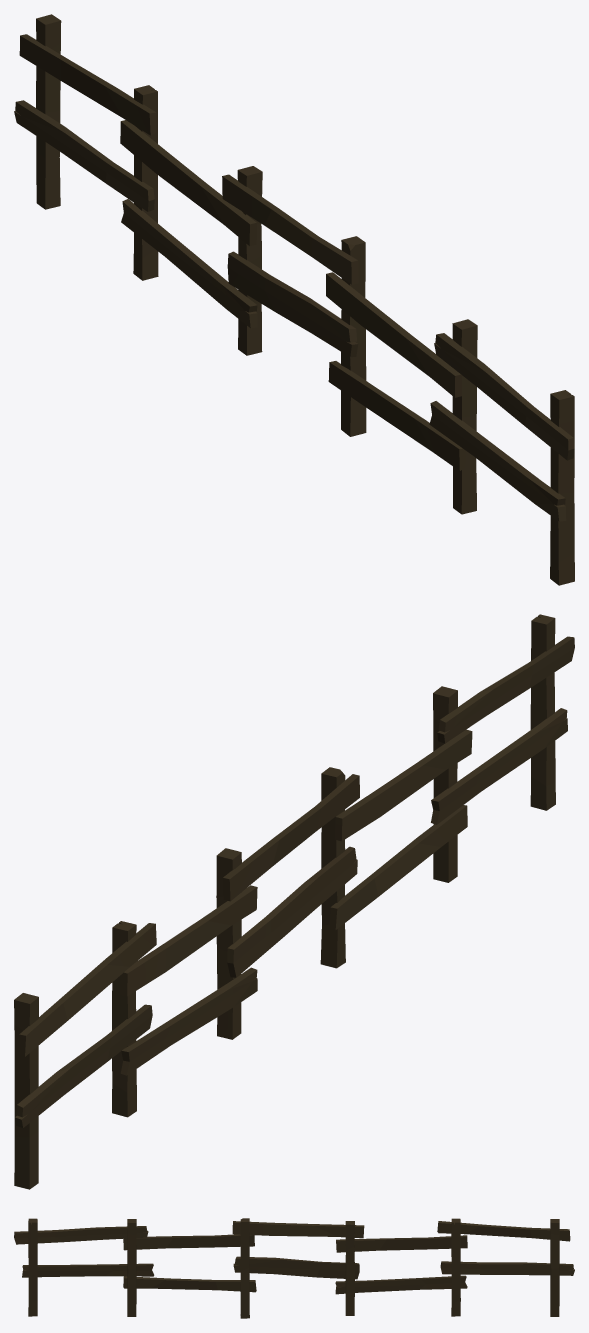
The model's file is fence.fbx.
The picture shows the model from 3 angles, top to bottom: view 1: azimuth 30°, elevation 25°; view 2: azimuth 150°, elevation 25°; view 3: azimuth 270°, elevation 25°; orthographic projection. The views are drawn at different scales.
Visible parts, largest first — view 1: Cube.010; view 2: Cube.010; view 3: Cube.010.
Part boxes in pixels (box(x1,y1,x2,y2)): Cube.010: box(14, 14, 574, 585); Cube.010: box(14, 614, 574, 1189); Cube.010: box(14, 1218, 574, 1318).
Bounding box in the file's own units: 148 × 961 × 5047.
